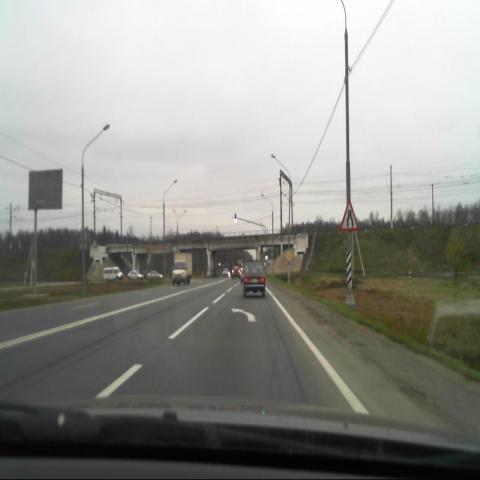1_20: (340, 199, 359, 231)
